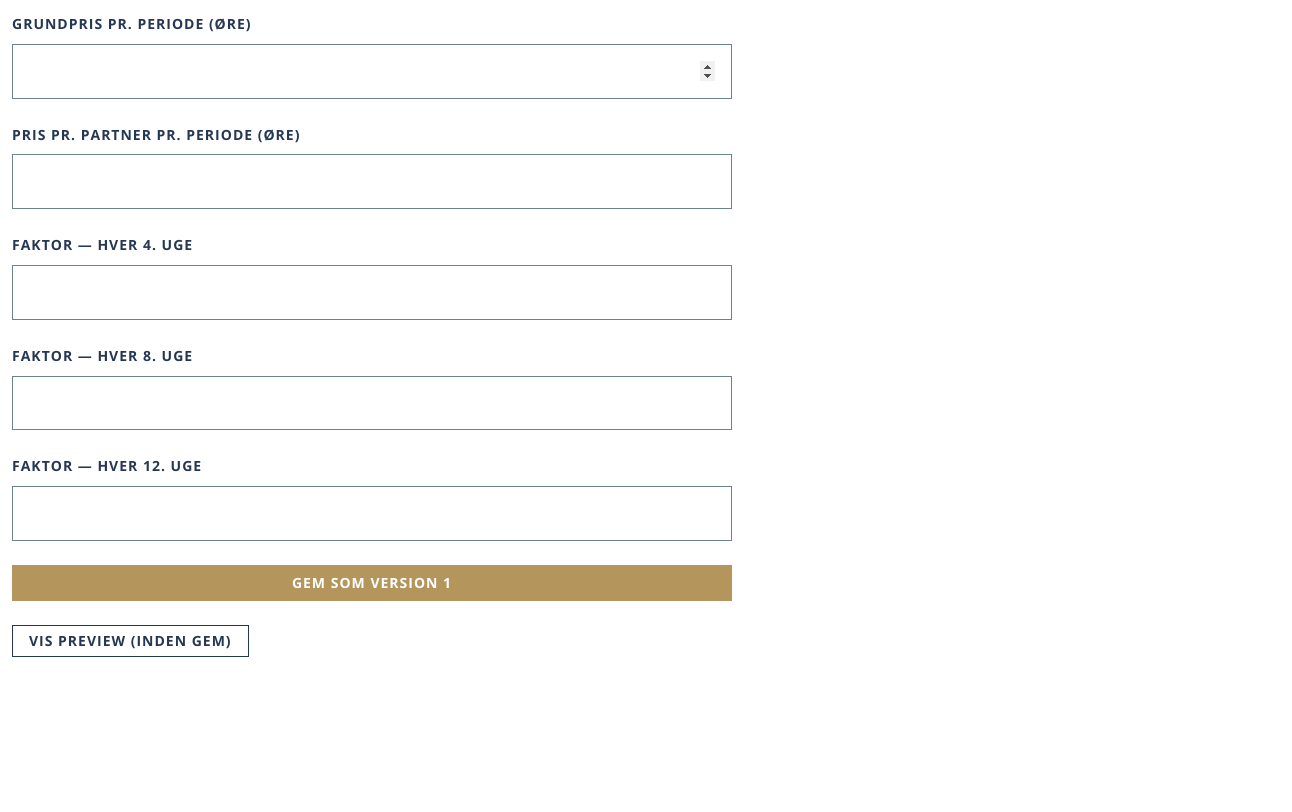
Test case: PricingRuleForm — preview inden gem (ADR 0017-mønstret) › NEGATIV: tomme felter giver ingen preview-tabel, men en forklarende besked
Click the button "Vis preview (inden gem)" at x=130, y=641, box 12,625 -> 249,657
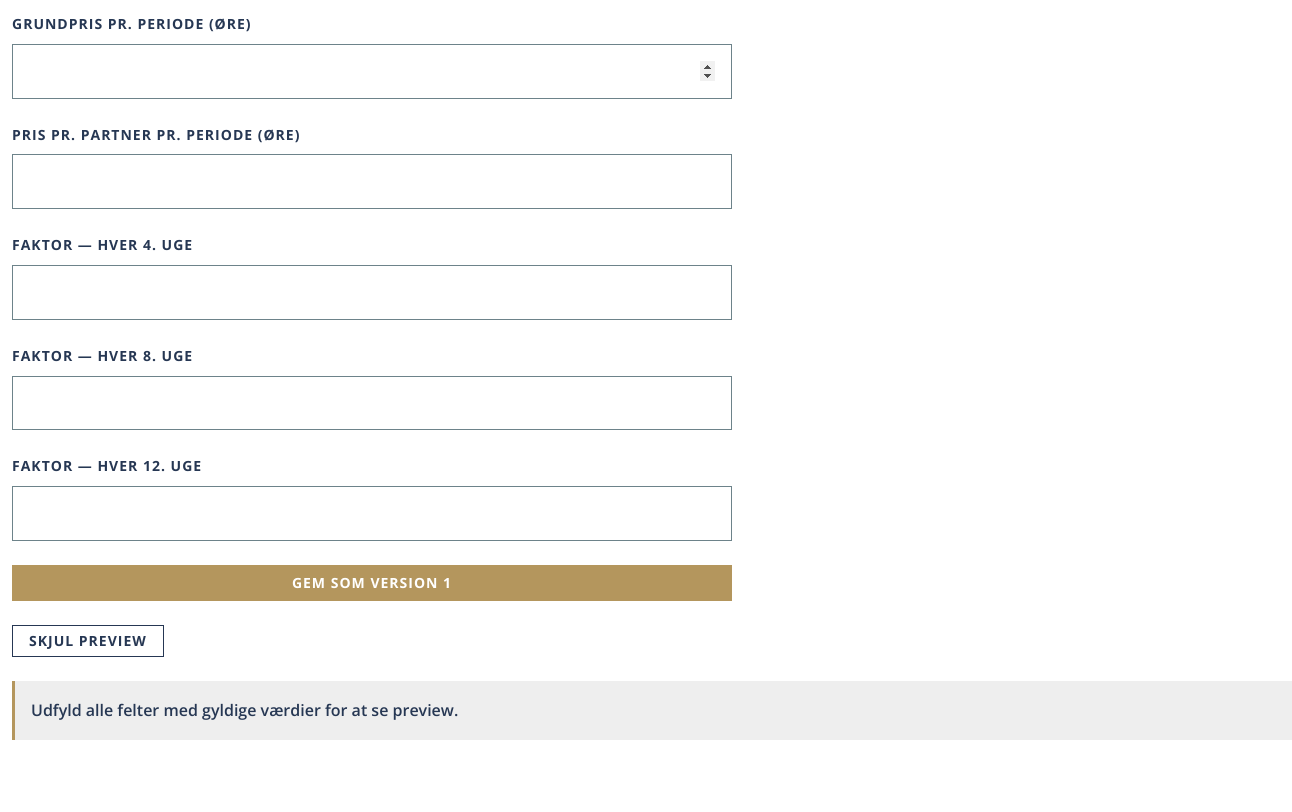
Result: the message shows "Udfyld alle felter" at 31,699 -> 458,721
